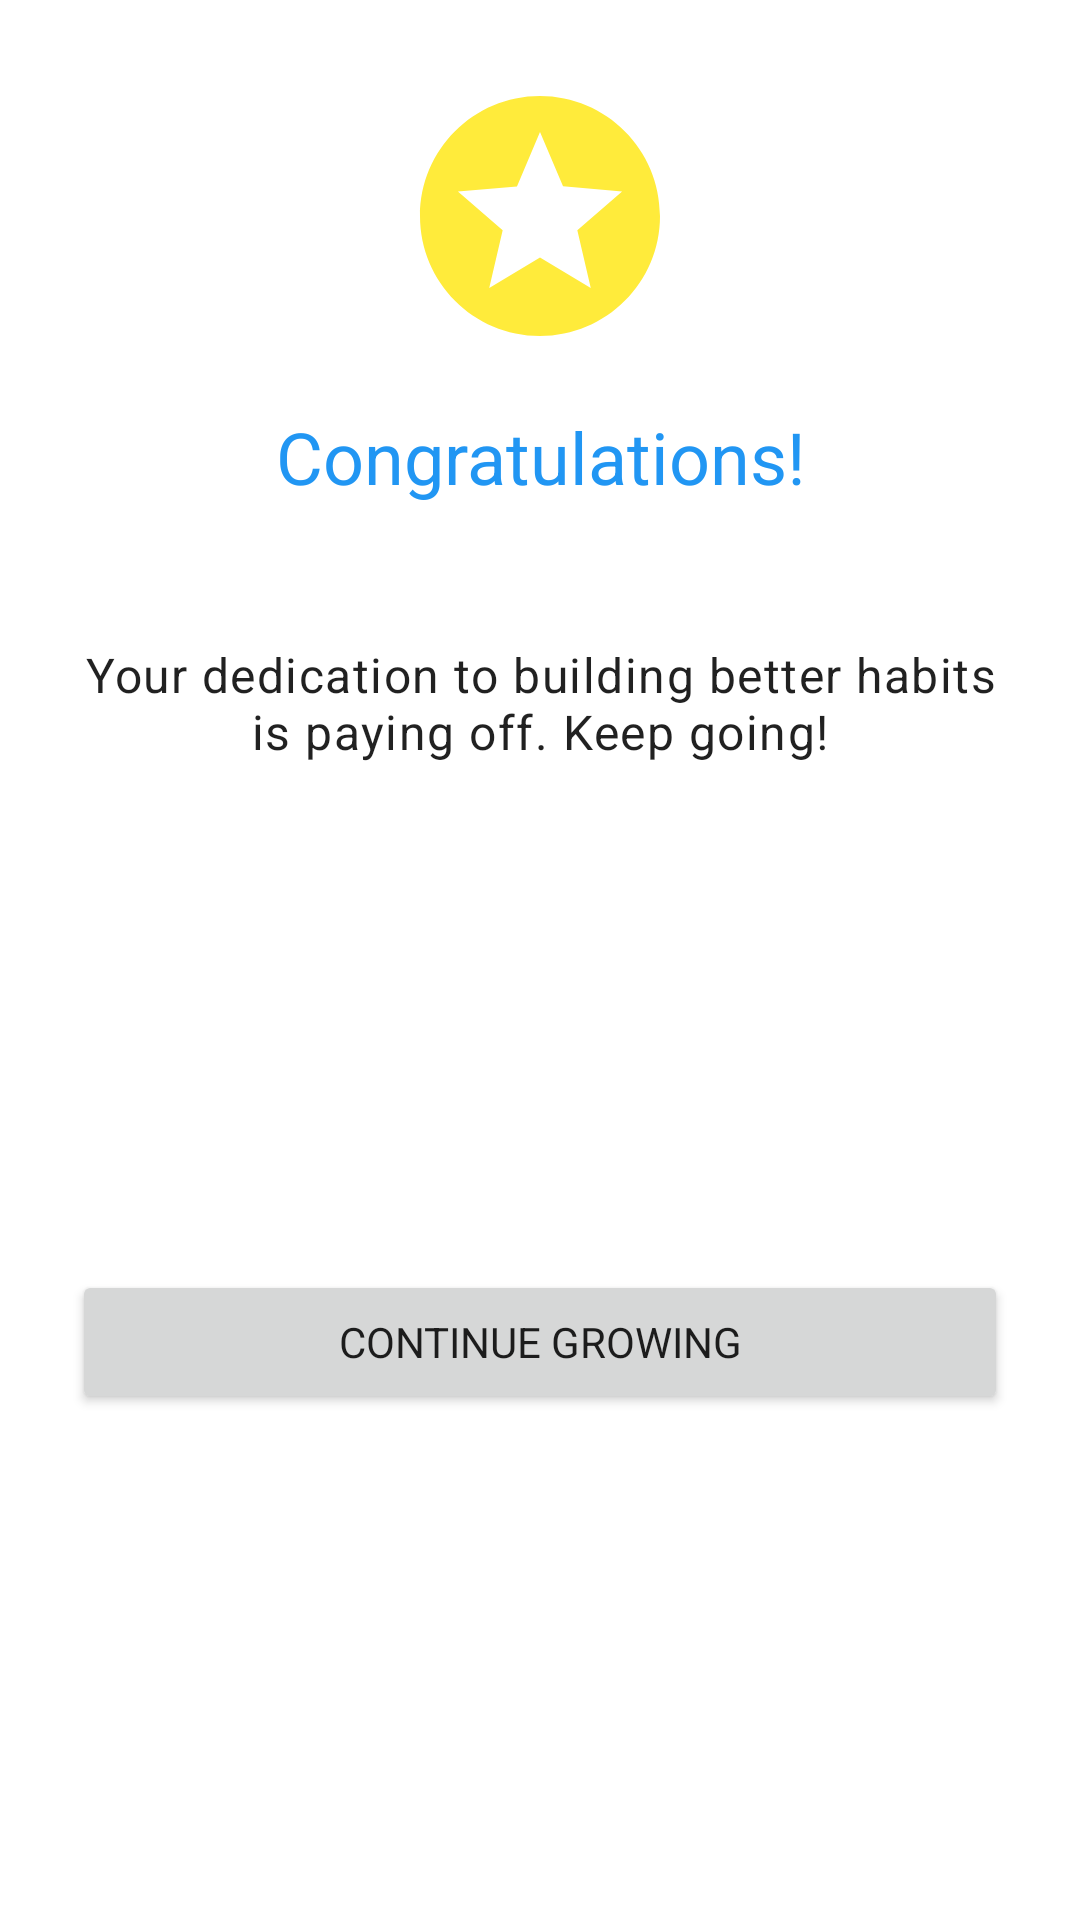

Named icons in this screenshot (1080x1920) and their bounding boxes, (x1, y1, x2, y2):
Level Up: (420, 96, 660, 336)
